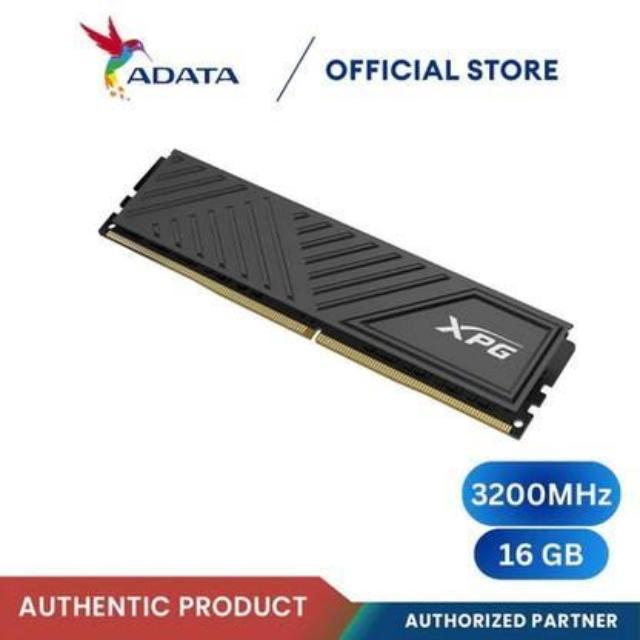RAM: (86, 137, 592, 446)
